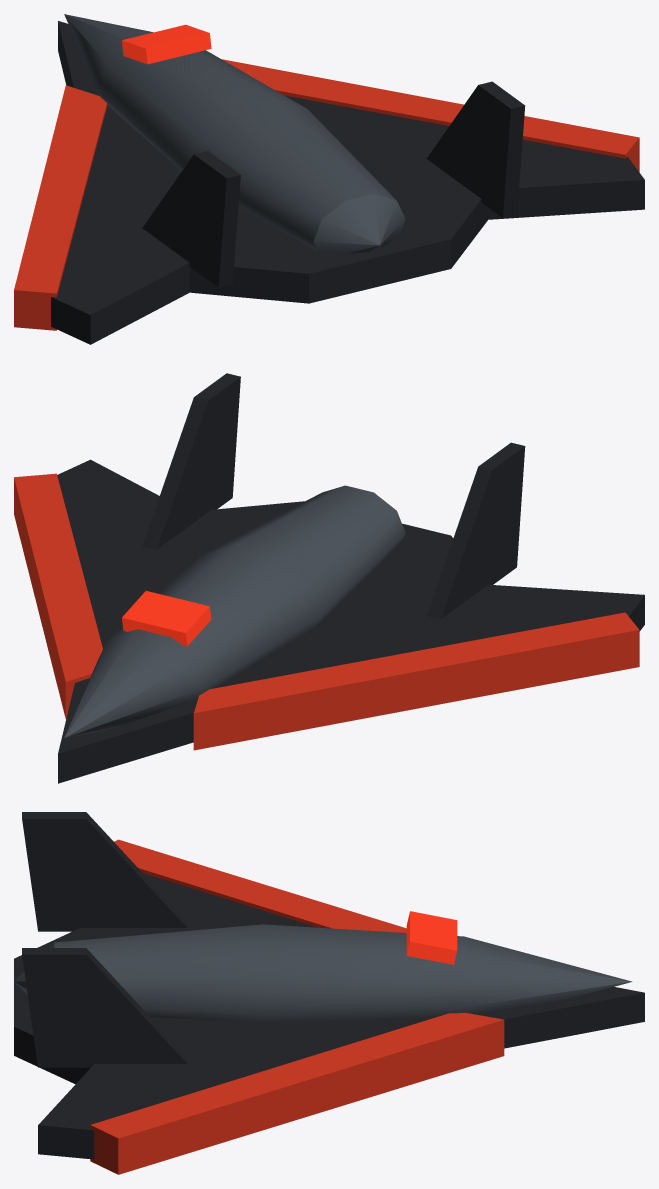
The model's file is skirmisher.glb.
3 views of the same model, one above another, from view 1: azimuth 30°, elevation 25°; view 2: azimuth 150°, elevation 25°; view 3: azimuth 270°, elevation 25° (orthographic). The views are drawn at different scales.
Visible parts, largest first — view 1: skirmisher_mesh; view 2: skirmisher_mesh; view 3: skirmisher_mesh.
Boxes of the visible parts, x1=… form: skirmisher_mesh: x1=14, y1=14, x2=644, y2=344; skirmisher_mesh: x1=14, y1=373, x2=644, y2=783; skirmisher_mesh: x1=14, y1=812, x2=644, y2=1174.
Bounding box in the file's own units: 1.76 × 0.42 × 1.57.
